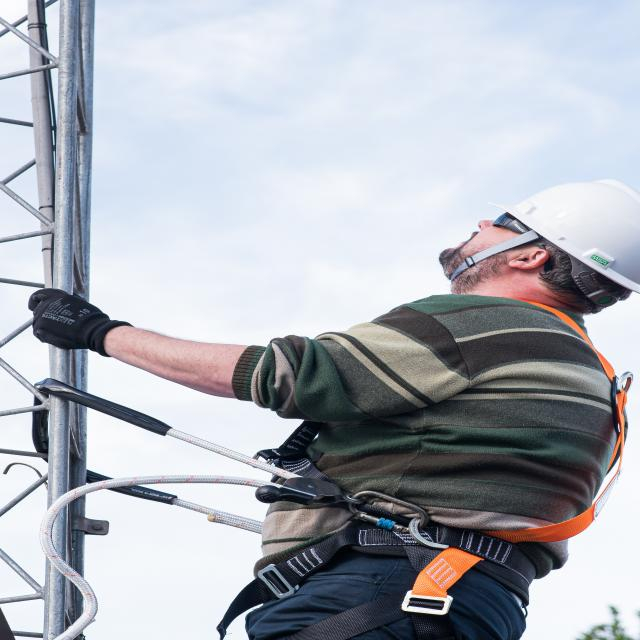capacete: (477, 174, 640, 298)
luva: (20, 276, 144, 367)
